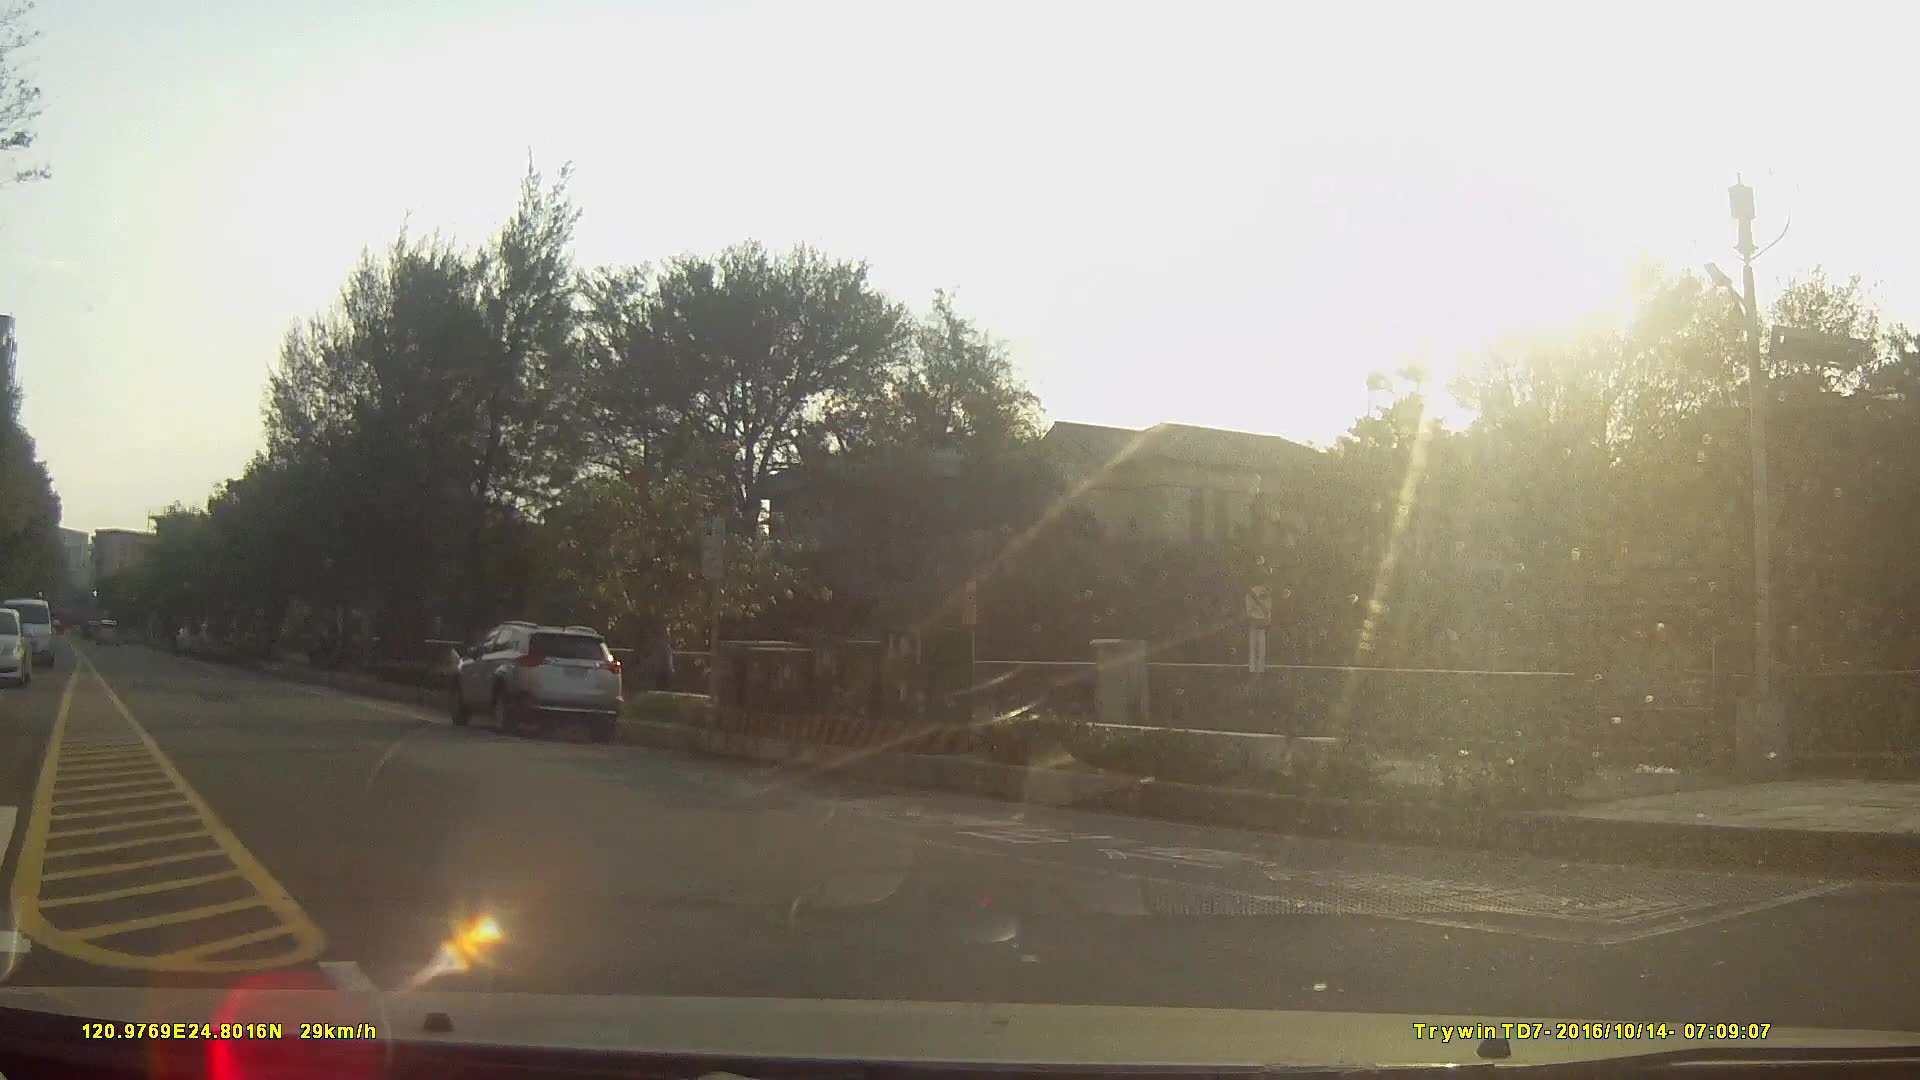vehicle: (446, 620, 622, 732), (7, 597, 54, 669), (0, 605, 32, 688)
